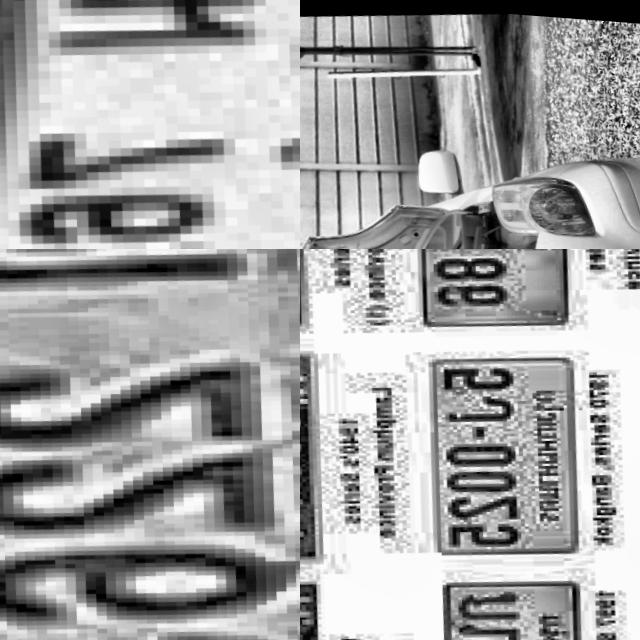license-plate: (0, 249, 300, 640), (0, 0, 300, 249), (417, 342, 596, 562), (402, 249, 583, 335), (431, 562, 599, 640)
